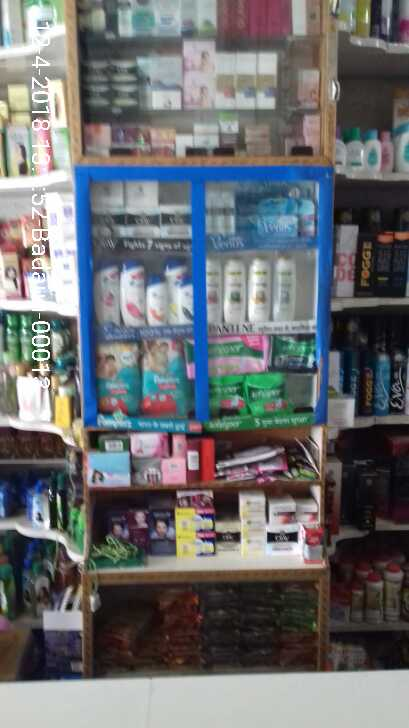venus: (256, 199, 295, 234), (298, 199, 316, 233)
